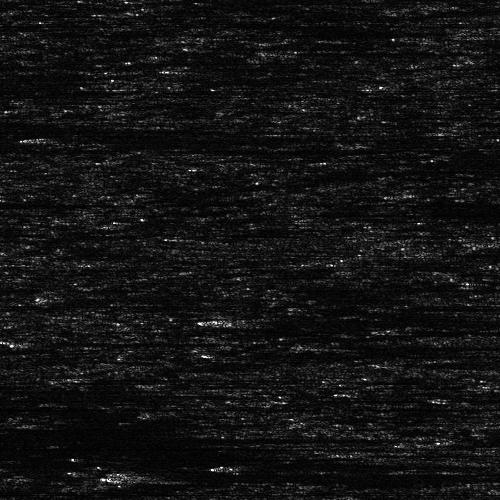rock: (354, 226, 500, 255), (369, 432, 500, 451), (85, 469, 190, 488), (0, 133, 71, 144), (466, 478, 500, 495), (47, 373, 120, 380), (2, 337, 55, 344), (220, 462, 261, 467), (0, 435, 18, 442), (0, 459, 18, 464)
shadow: (138, 469, 500, 488), (35, 133, 415, 144), (0, 122, 244, 139), (0, 459, 466, 464), (0, 435, 308, 442), (0, 390, 105, 401), (29, 337, 184, 344), (0, 196, 81, 209), (458, 432, 500, 451), (84, 373, 162, 380), (241, 462, 324, 467), (0, 485, 9, 492)
